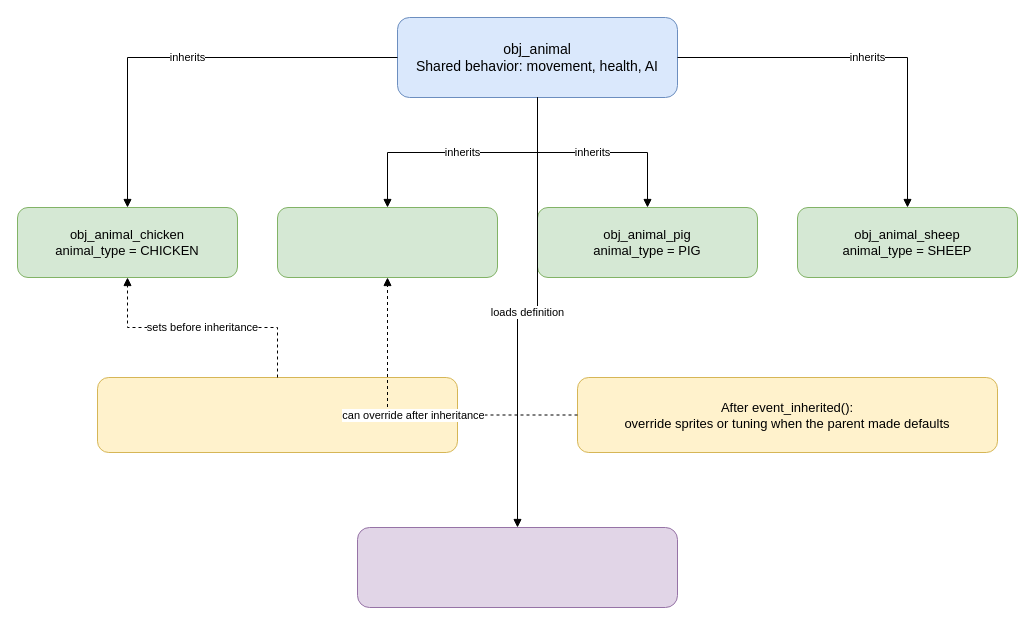
Some shapes in this 1035 by 625 pixel diagram are drawn without their labels. Each missing label, with the box of its shape:
Before event_inherited(): set values the parent needs immediately: (96, 376, 458, 452)
obj_animal_cow animal_type = COW: (276, 206, 498, 278)
scr_animals Animal_Get_Definition() Centralized species data: (356, 526, 678, 608)
